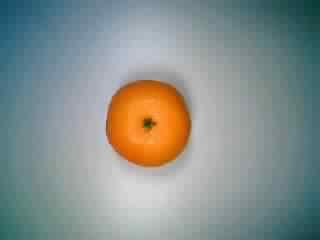orange: (99, 73, 195, 169)
